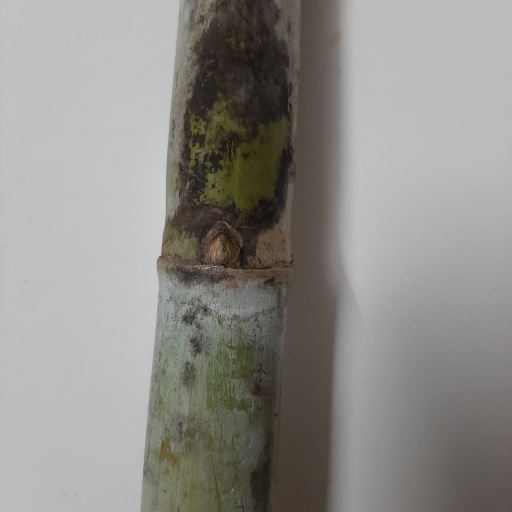Bud: (205, 227, 239, 268)
